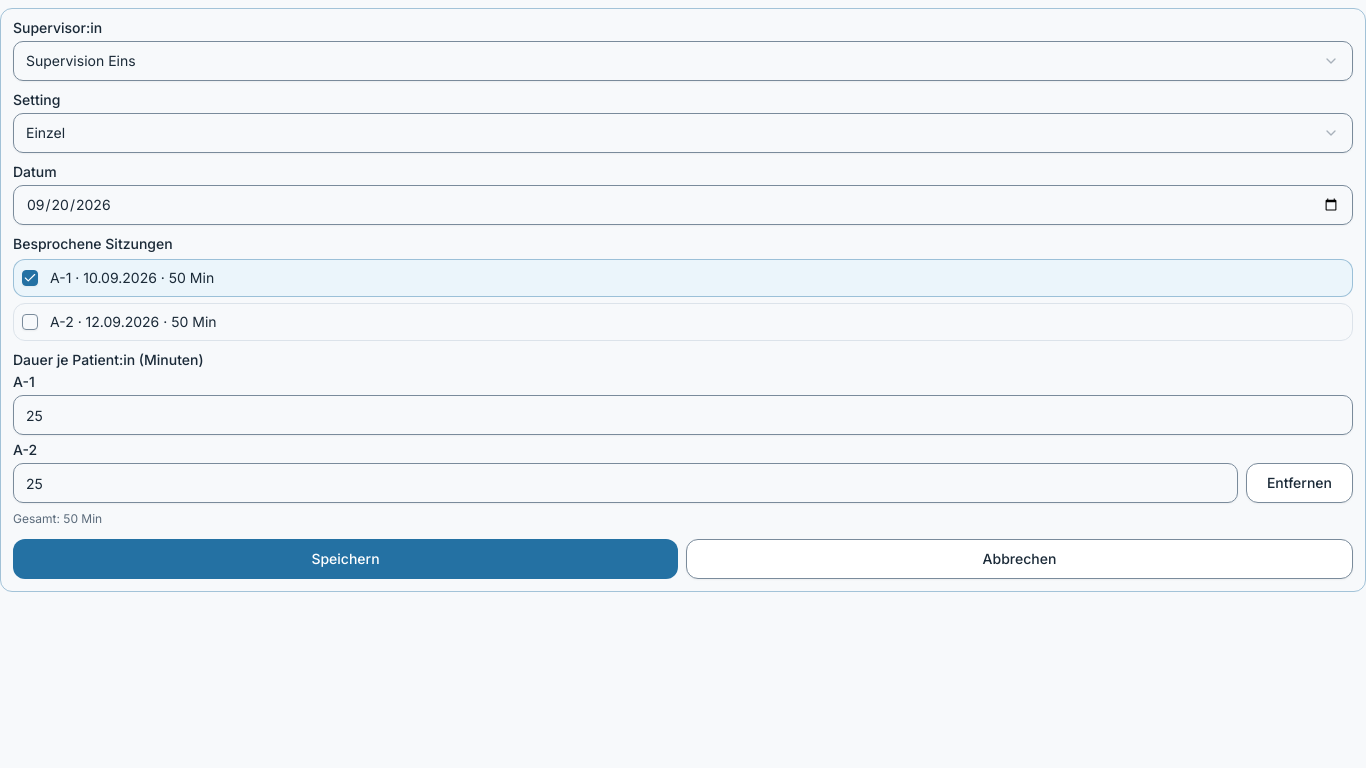
it: SupervisionSessionEditForm › blendet „Entfernen“ aus, sobald für den Fall wieder eine Sitzung angehakt ist
Expected: the button named "A-2 entfernen" is shown, [1246,463,1353,503]
Click the checkbox next to "A-2 · 12.09.2026 · 50 Min". click: (30, 322)
box: [22,314,38,330]
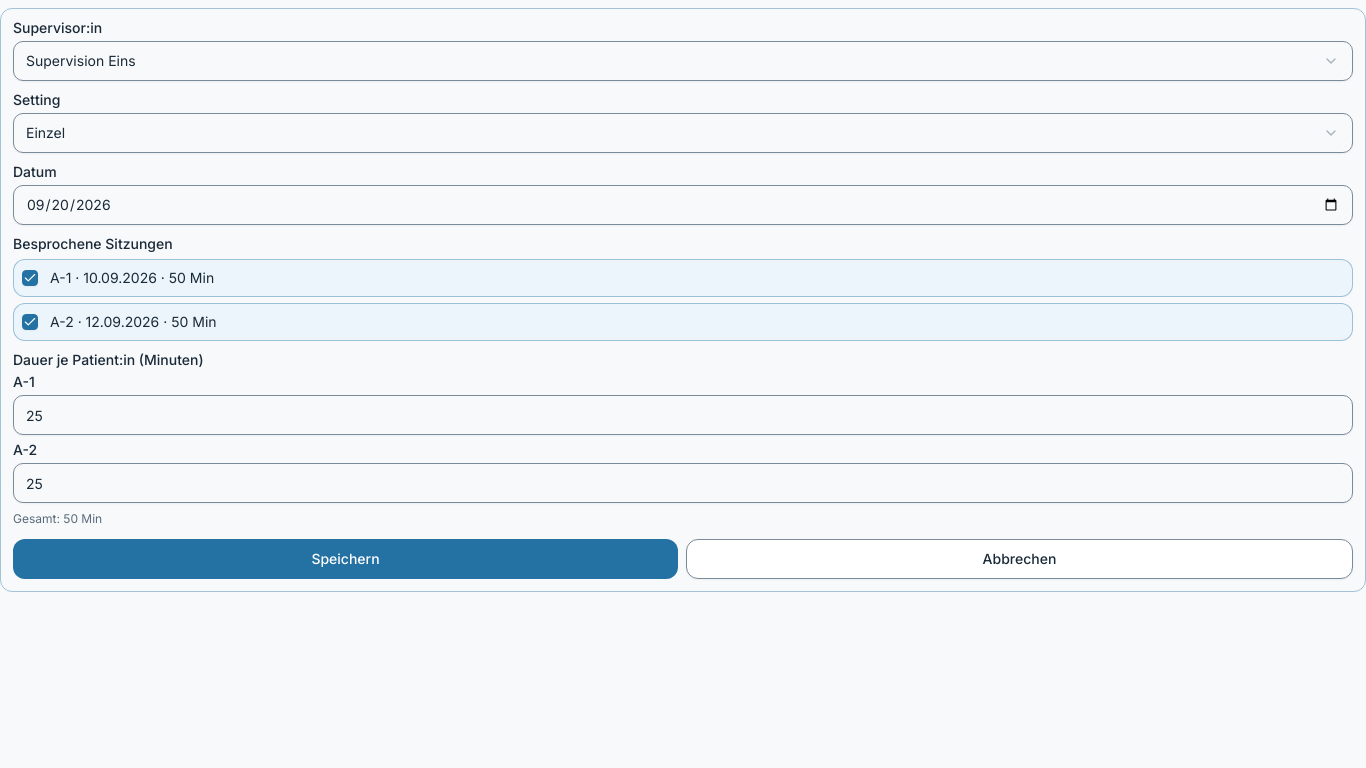
Now the button "A-2 Entfernen" is gone
